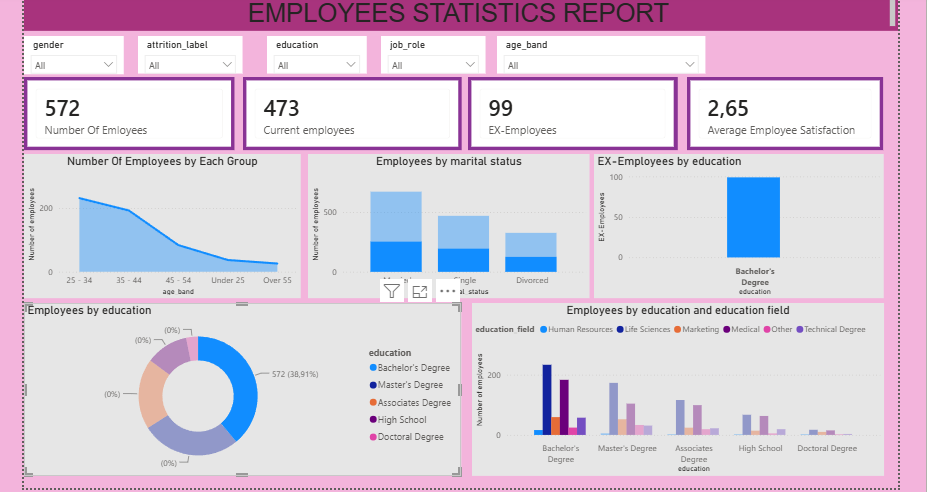

Layout of this report page (visuals, bound fields, positions):
{"tool":"powerbi","page":{"name":"Question 2-3","canvas":[1280,720],"ordinal":0},"visuals":[{"type":"cardVisual","fields":{"Data":["Count(Employee Statistics.emp_no)"]},"box":[0,119.1,308.1,107.2],"z":0},{"type":"cardVisual","fields":{"Data":["Employee Statistics.Current employees"]},"box":[320,119.1,320,107.2],"z":1000},{"type":"cardVisual","fields":{"Data":["Employee Statistics.EX-Employees"]},"box":[650.4,119.1,306.6,107.2],"z":2000},{"type":"cardVisual","fields":{"Data":["Employee Statistics.Average Employee Satisfaction"]},"box":[970.4,119.1,287.3,107.2],"z":3000},{"type":"stackedAreaChart","title":"Number Of Employees by Each Group","fields":{"Category":["Employee Statistics.age_band"],"Y":["Count(Employee Statistics.emp_no)"]},"box":[0,230.7,404.8,211.3],"z":4000},{"type":"clusteredColumnChart","title":"Employees by  marital status","fields":{"Category":["Employee Statistics.marital_status"],"Y":["Count(Employee Statistics.emp_no)"]},"box":[415.3,230.7,412.3,211.3],"z":5000},{"type":"donutChart","title":"Employees by education","fields":{"Category":["Employee Statistics.education"],"Y":["Count(Employee Statistics.emp_no)"]},"box":[0,449.3,639.5,253.2],"z":6000},{"type":"clusteredColumnChart","title":"Employees by education and education  field","fields":{"Y":["Count(Employee Statistics.emp_no)"],"Category":["Employee Statistics.education"],"Series":["Employee Statistics.education_field"]},"box":[654.9,449.5,602.8,253],"z":7000},{"type":"textbox","box":[0,0,1280.5,51.2],"z":8000},{"type":"slicer","fields":{"Values":["Employee Statistics.gender"]},"box":[0,58.5,146.3,55.6],"z":9000},{"type":"slicer","fields":{"Values":["Employee Statistics.attrition_label"]},"box":[166.7,58,153.3,55.1],"z":9001},{"type":"slicer","fields":{"Values":["Employee Statistics.education"]},"box":[355.7,58,145.9,55.1],"z":9002},{"type":"slicer","fields":{"Values":["Employee Statistics.job_role"]},"box":[522.4,58,153.3,55.1],"z":9003},{"type":"slicer","fields":{"Values":["Employee Statistics.age_band"]},"box":[692.1,58,305.1,55.1],"z":9004},{"type":"clusteredColumnChart","fields":{"Y":["Employee Statistics.EX-Employees"],"Category":["Employee Statistics.education"]},"box":[833.5,230.7,424.2,211.3],"z":9005}]}

Visuals, with their boxes in screenshot pixels (x1, y1, x2, y2):
cardVisual - Count(Employee Statistics.emp_no): box=[19, 76, 234, 151]
cardVisual - Employee Statistics.Current employees: box=[243, 76, 466, 151]
cardVisual - Employee Statistics.EX-Employees: box=[473, 76, 687, 151]
cardVisual - Employee Statistics.Average Employee Satisfaction: box=[696, 76, 896, 151]
"Number Of Employees by Each Group" stackedAreaChart: box=[19, 154, 302, 301]
"Employees by  marital status" clusteredColumnChart: box=[309, 154, 597, 301]
"Employees by education" donutChart: box=[19, 306, 465, 483]
"Employees by education and education  field" clusteredColumnChart: box=[476, 306, 896, 483]
textbox: box=[19, 0, 912, 28]
slicer - Employee Statistics.gender: box=[19, 34, 121, 72]
slicer - Employee Statistics.attrition_label: box=[136, 33, 243, 72]
slicer - Employee Statistics.education: box=[267, 33, 369, 72]
slicer - Employee Statistics.job_role: box=[384, 33, 491, 72]
slicer - Employee Statistics.age_band: box=[502, 33, 715, 72]
clusteredColumnChart - Employee Statistics.EX-Employees x Employee Statistics.education: box=[601, 154, 896, 301]
